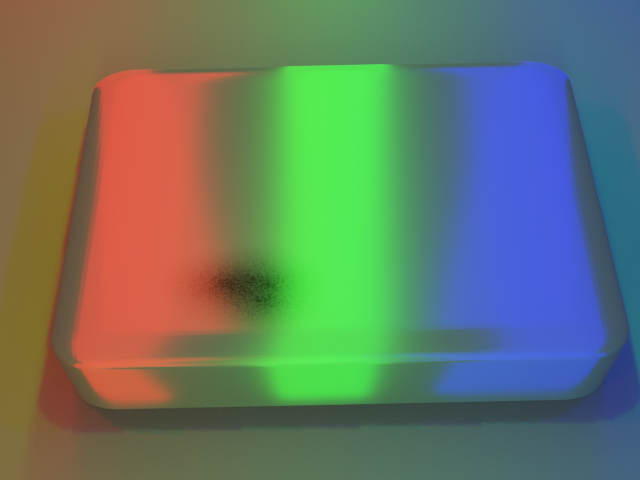stain: (121, 218, 362, 364)
